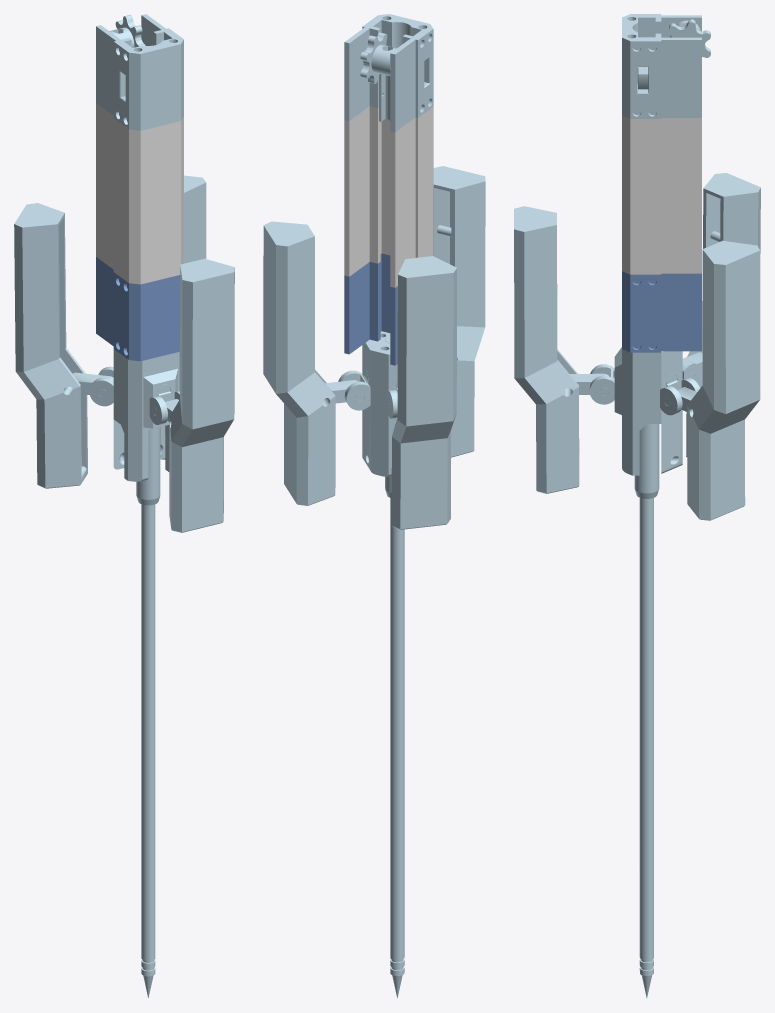
File: Bunker-optimized.glb
The picture shows the model from 3 angles, left to right: view 1: azimuth 30°, elevation 25°; view 2: azimuth 150°, elevation 25°; view 3: azimuth 270°, elevation 25°; orthographic projection.
Visible parts, largest first — view 1: Part 1, Part 3, Part 2; view 2: Part 1, Part 3, Part 2; view 3: Part 1, Part 3, Part 2.
Part boxes in pixels (x1,y1,x2,y2): Part 1: (14, 14, 234, 997); Part 3: (96, 103, 183, 284); Part 2: (96, 257, 180, 361); Part 1: (263, 14, 485, 998); Part 3: (344, 106, 433, 287); Part 2: (344, 253, 397, 365); Part 1: (514, 14, 760, 998); Part 3: (622, 115, 701, 274); Part 2: (622, 271, 701, 352).
Bounding box in the file's own units: 0.1538 × 0.7547 × 0.1725.
